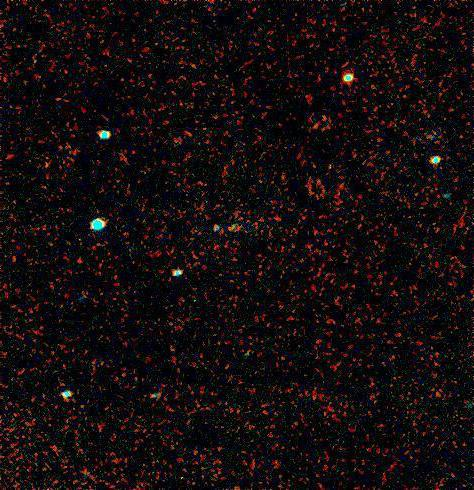star: (219, 215, 249, 245)
